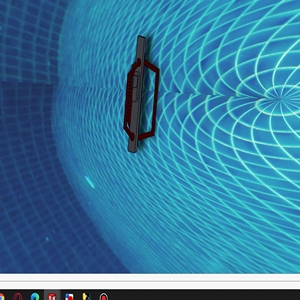submarine: (118, 38, 160, 148)
